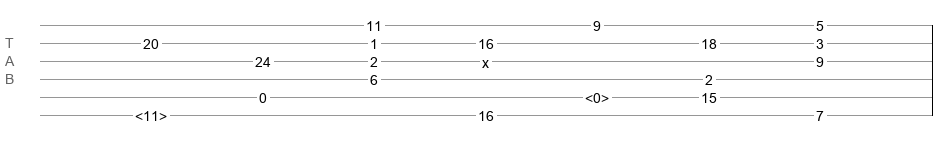0: (259, 90, 267, 100)
1: (370, 36, 378, 46)
11: (366, 18, 382, 28)
15: (701, 90, 717, 100)
16: (478, 36, 494, 46), (478, 108, 494, 118)
18: (701, 36, 717, 46)
2: (370, 54, 378, 64), (705, 72, 713, 82)
20: (143, 36, 159, 46)
24: (255, 54, 271, 64)
3: (816, 36, 824, 46)
5: (816, 18, 824, 28)
6: (370, 72, 378, 82)
7: (816, 108, 824, 118)
9: (593, 18, 601, 28), (816, 54, 824, 64)
harmonic: (135, 108, 167, 118), (585, 90, 609, 100)
x: (482, 55, 489, 63)
